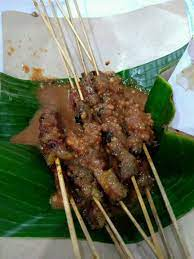sate: (15, 65, 191, 234)
